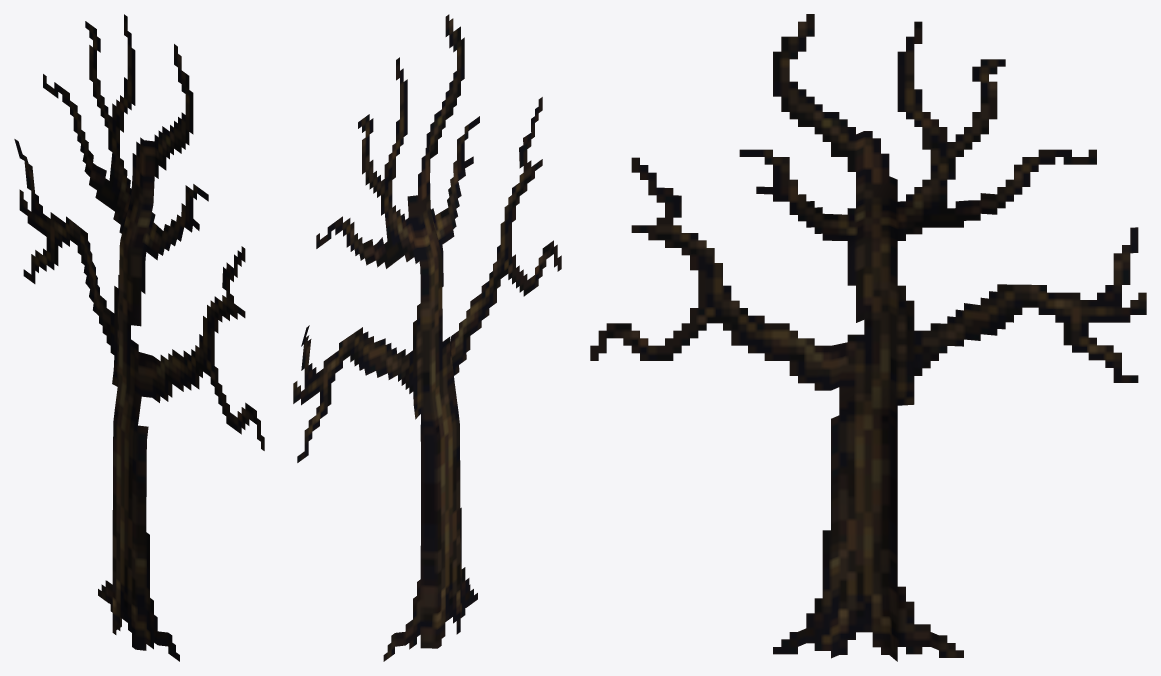
File: EnvFldMD_Tree_F_BareTree_M.FBX
3 views of the same model, side by side, from view 1: azimuth 30°, elevation 25°; view 2: azimuth 150°, elevation 25°; view 3: azimuth 270°, elevation 25° (orthographic). The views are drawn at different scales.
Parts seen in each view (by area): view 1: EnvFldMD_Tree_F_BareTree_M; view 2: EnvFldMD_Tree_F_BareTree_M; view 3: EnvFldMD_Tree_F_BareTree_M.
Boxes of the visible parts, left/top/right/bottom form: EnvFldMD_Tree_F_BareTree_M: left=14, top=14, right=264, bottom=661; EnvFldMD_Tree_F_BareTree_M: left=293, top=14, right=561, bottom=661; EnvFldMD_Tree_F_BareTree_M: left=590, top=14, right=1146, bottom=661.
Bounding box in the file's own units: 20 × 435 × 335.
Materials: 1 (1 with a texture image).
